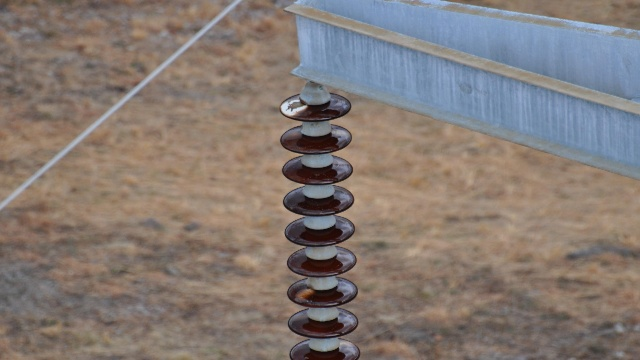insulator_unspecified: (278, 92, 360, 359)
pollution_flashover_local: (280, 97, 309, 118), (294, 284, 317, 303)
